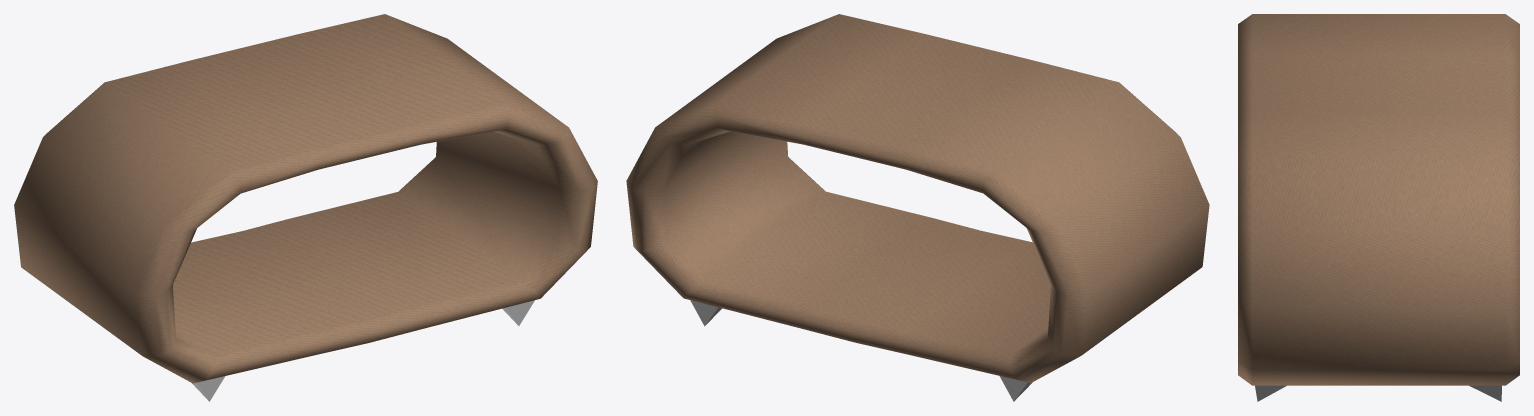
Rendered from Open_Stool_I_2.FBX.
3 renders of one model, left to right at view 1: azimuth 30°, elevation 25°; view 2: azimuth 150°, elevation 25°; view 3: azimuth 270°, elevation 25°, orthographic. The views are drawn at different scales.
Parts seen in each view (by area): view 1: Stool_01; view 2: Stool_01; view 3: Stool_01.
Part boxes in pixels (x1=…): Stool_01: x1=14, y1=14, x2=597, y2=401; Stool_01: x1=626, y1=14, x2=1209, y2=401; Stool_01: x1=1238, y1=14, x2=1519, y2=401.
Size of the model in its own units: 172 by 81.63 by 87.07.
